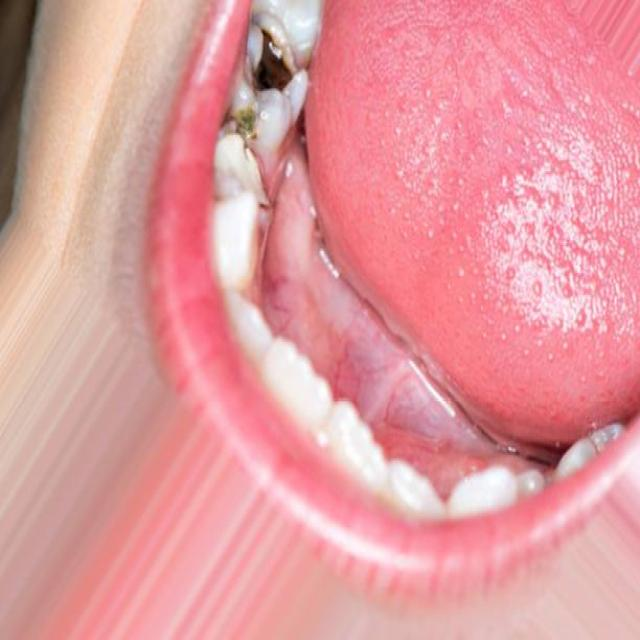caries: (242, 11, 312, 103), (212, 96, 284, 179)
